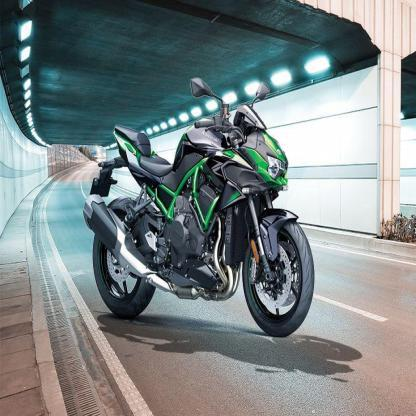Motorcycle: (72, 69, 318, 340)
